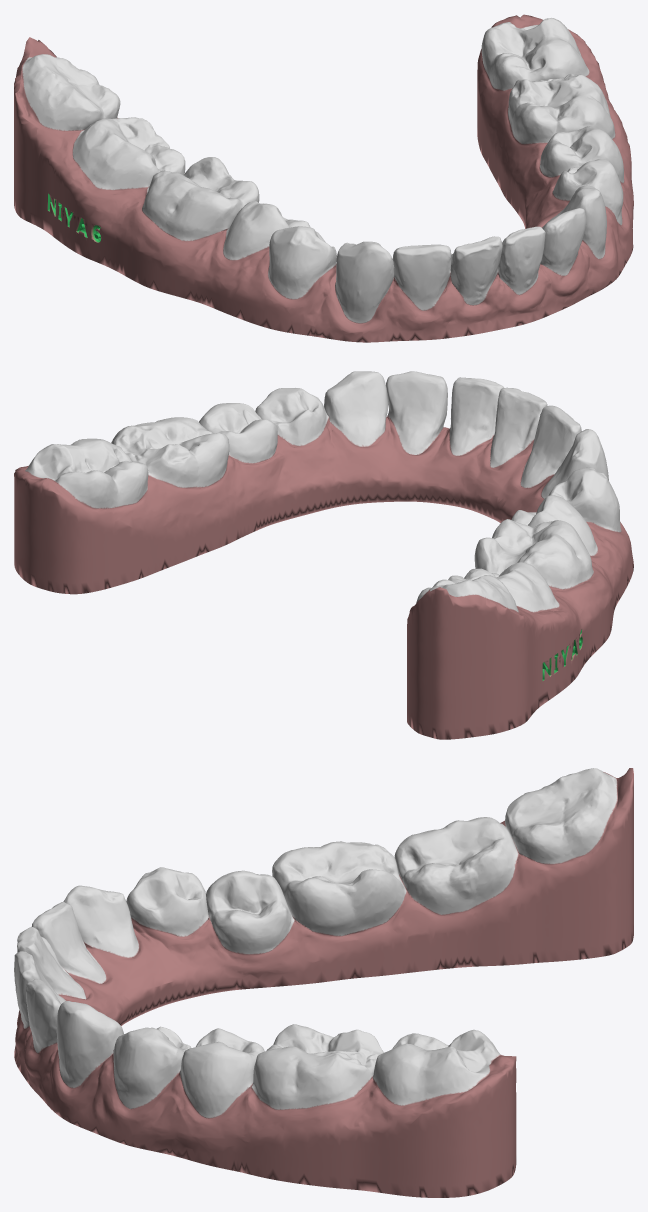
The model's file is Niya Priority Lower jaw - 06 - Model.glb.
3 views of the same model, one above another, from view 1: azimuth 30°, elevation 25°; view 2: azimuth 150°, elevation 25°; view 3: azimuth 270°, elevation 25° (orthographic). The views are drawn at different scales.
Parts seen in each view (by area): view 1: Niya Priority Lower jaw - 06 - Model; view 2: Niya Priority Lower jaw - 06 - Model; view 3: Niya Priority Lower jaw - 06 - Model.
Part boxes in pixels (x1,y1,x2,y2): Niya Priority Lower jaw - 06 - Model: [14, 14, 633, 342]; Niya Priority Lower jaw - 06 - Model: [14, 371, 633, 739]; Niya Priority Lower jaw - 06 - Model: [14, 768, 633, 1197].
Bounding box in the file's own units: 62.72 × 16.53 × 56.57.
